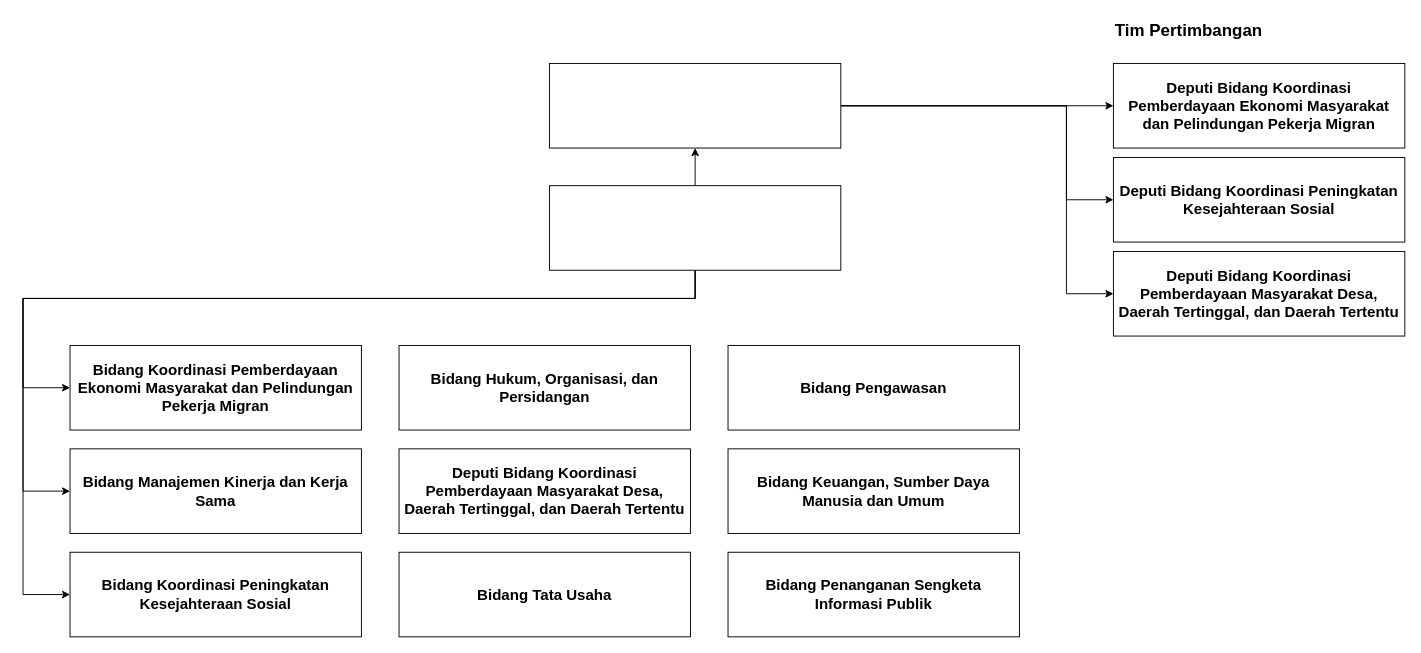
Some shapes in this 1421 by 653 pixel diagram are drawn without their labels. The shapes that lost their labels are listed below. From the top down, each one's centre as x and y in pixels, then its label:
At pixel 694 105: "Sekretaris Kementerian Koordinator Bidang Pemberdayaan Masyarakat".
At pixel 694 227: "Kepala Biro Komunikasi dan Pengelolaan Data dan Informasi.".
